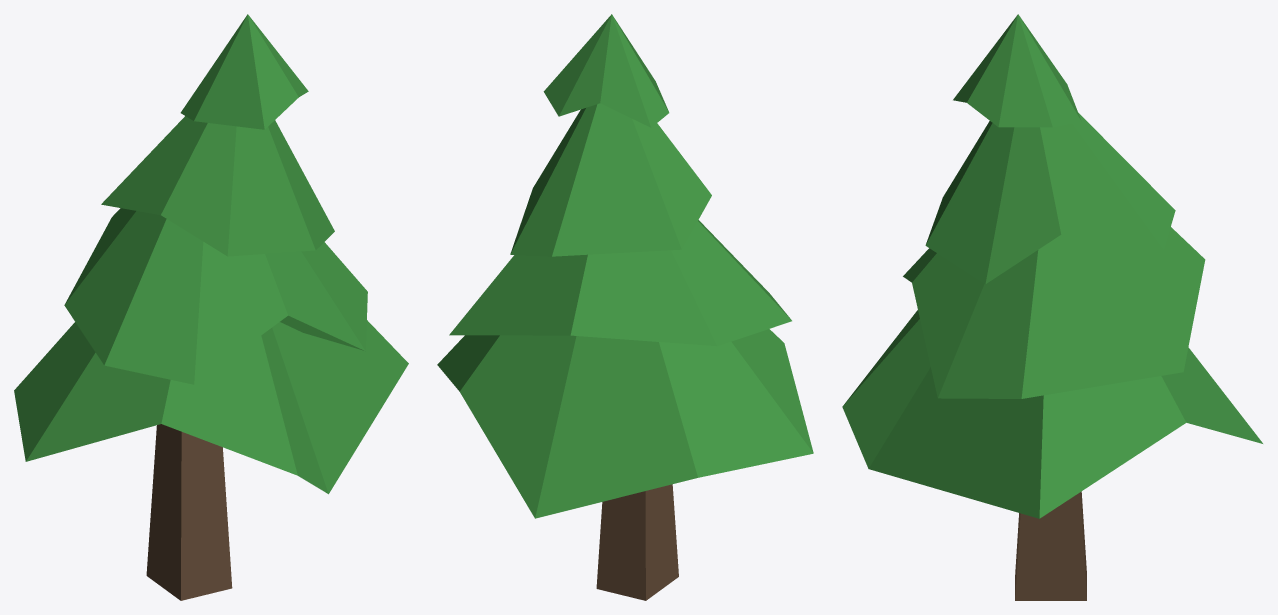
File: TreeOne.fbx
3 views of the same model, side by side, from view 1: azimuth 30°, elevation 25°; view 2: azimuth 150°, elevation 25°; view 3: azimuth 270°, elevation 25° (orthographic). The views are drawn at different scales.
Parts seen in each view (by area): view 1: PINO6; view 2: PINO6; view 3: PINO6.
Boxes of the visible parts, box(x1,y1,x2,y2) form: PINO6: box(14, 14, 408, 600); PINO6: box(437, 14, 813, 600); PINO6: box(842, 14, 1262, 600).
Size of the model in its own units: 262 by 367 by 236.
